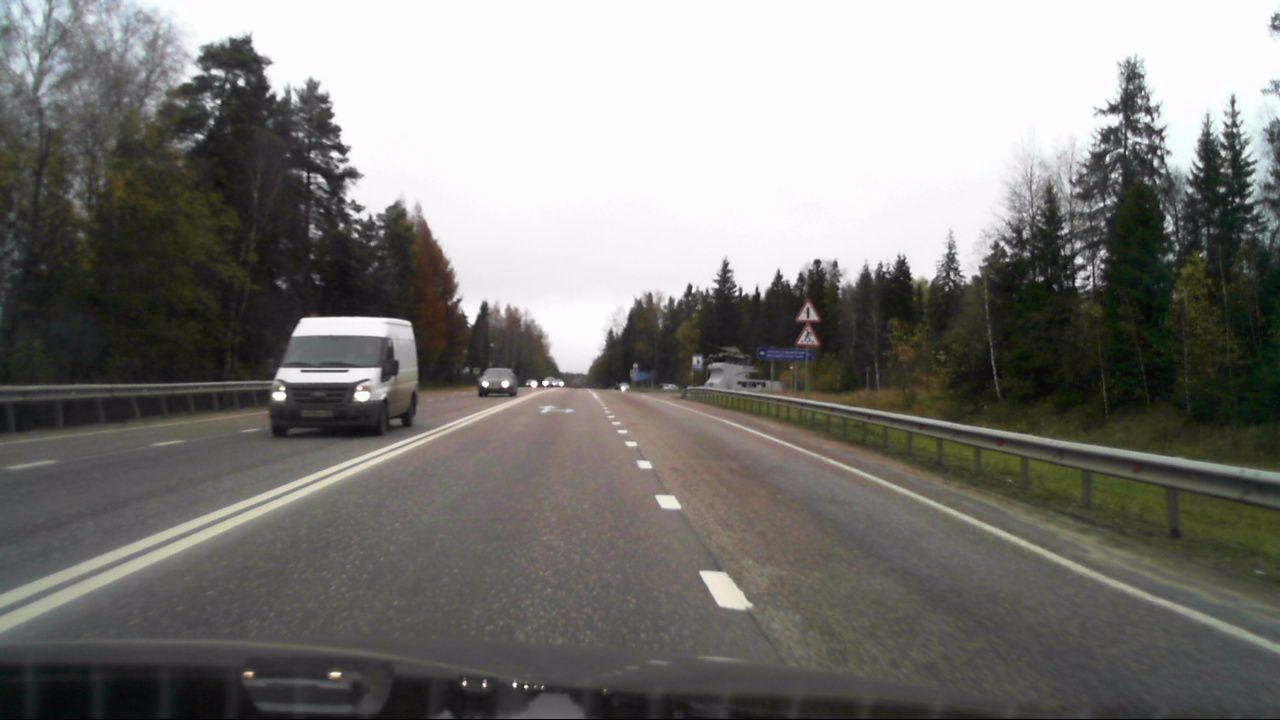1_22: (796, 323, 820, 346)
2_3_3: (795, 299, 820, 322)
